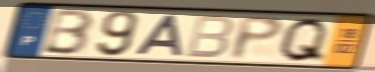9: (96, 9, 140, 58)
A: (132, 14, 185, 58)
B: (39, 8, 97, 57), (183, 13, 236, 60)
P: (229, 16, 286, 62)
Q: (275, 16, 331, 64)
